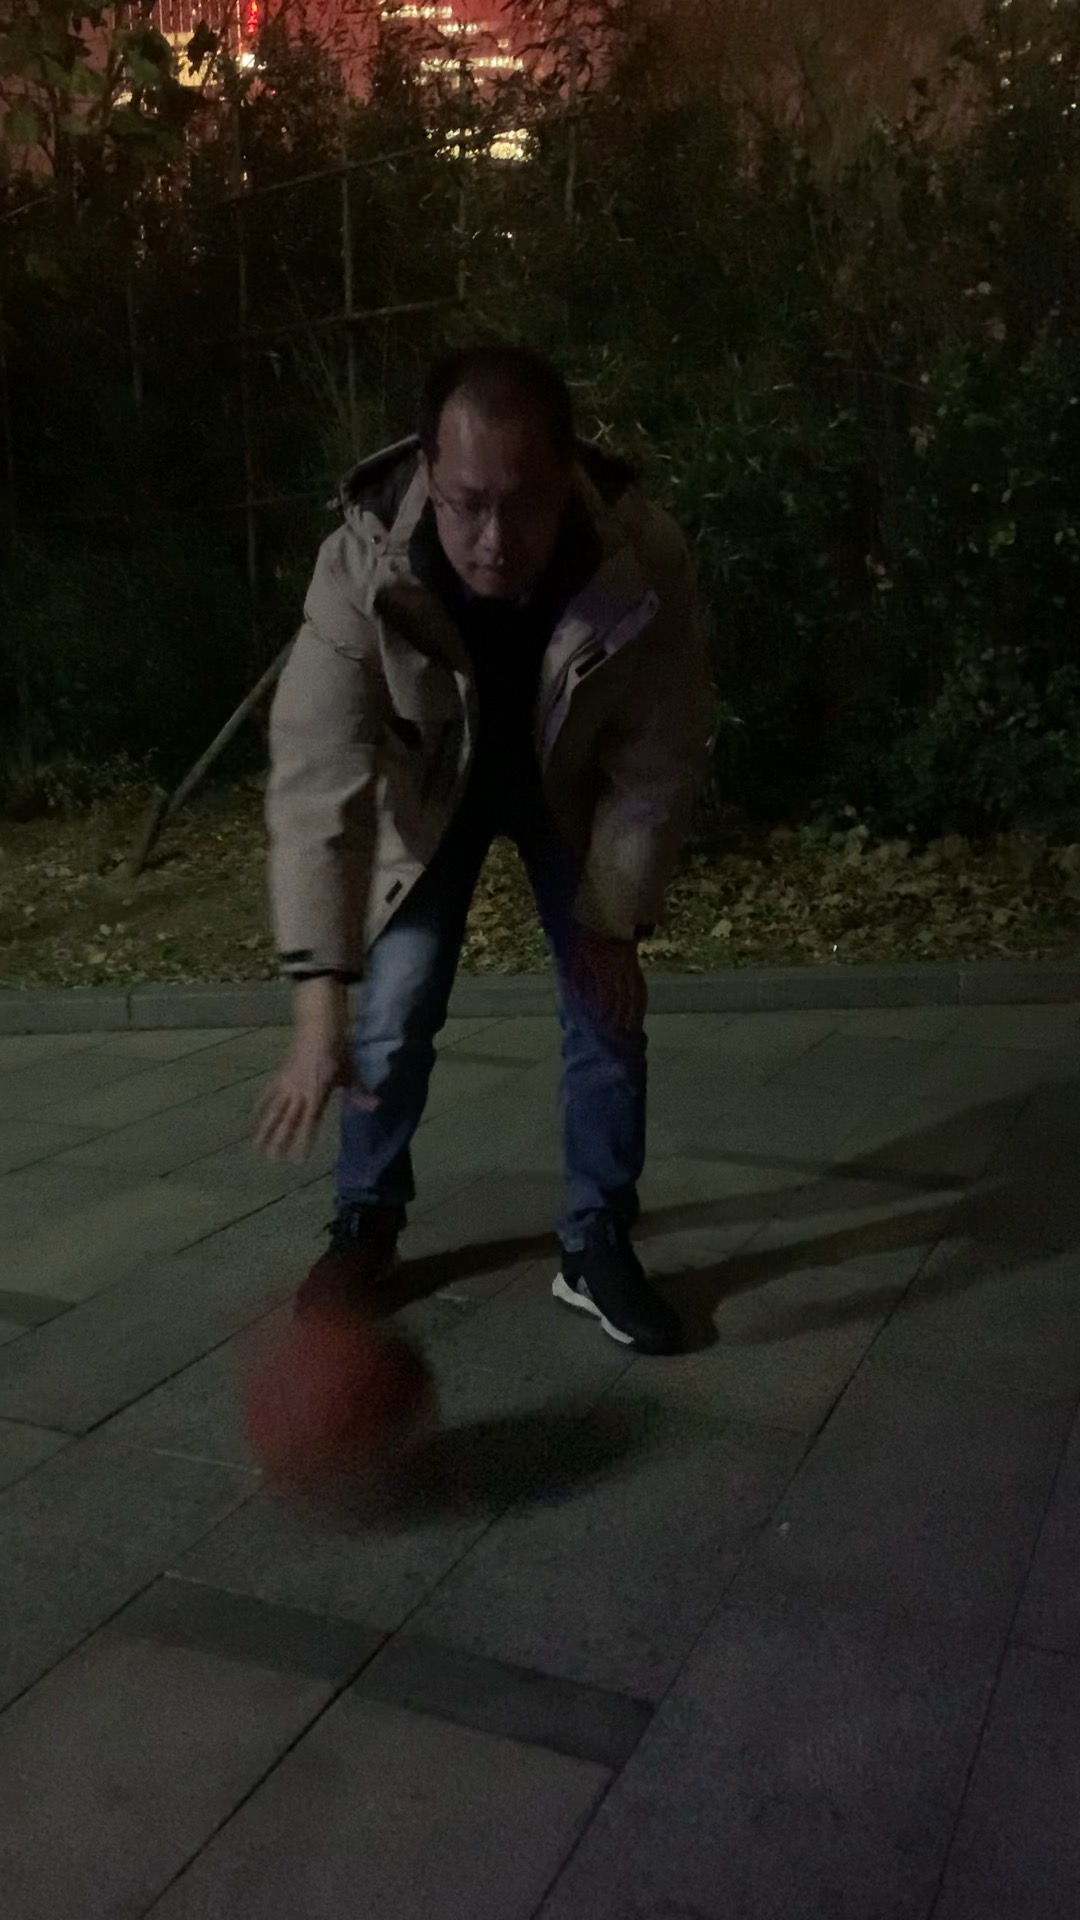ball: (247, 1313, 448, 1505)
